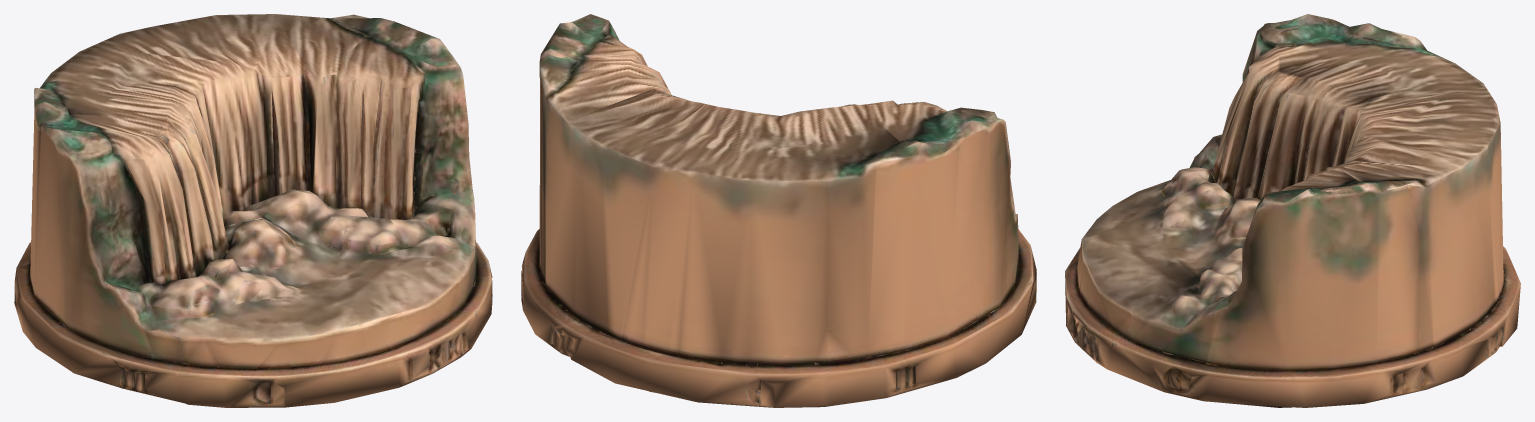
Rendered from niagara_falls.glb.
The picture shows the model from 3 angles, left to right: view 1: azimuth 30°, elevation 25°; view 2: azimuth 150°, elevation 25°; view 3: azimuth 270°, elevation 25°; orthographic projection. The views are drawn at different scales.
Parts seen in each view (by area): view 1: Mesh_0; view 2: Mesh_0; view 3: Mesh_0.
Part boxes in pixels (x1,y1,x2,y2): Mesh_0: [14, 14, 492, 407]; Mesh_0: [521, 14, 1036, 407]; Mesh_0: [1065, 14, 1520, 407].
Size of the model in its own units: 1.9 by 0.9869 by 1.9.
Materials: 1 (1 with a texture image).
